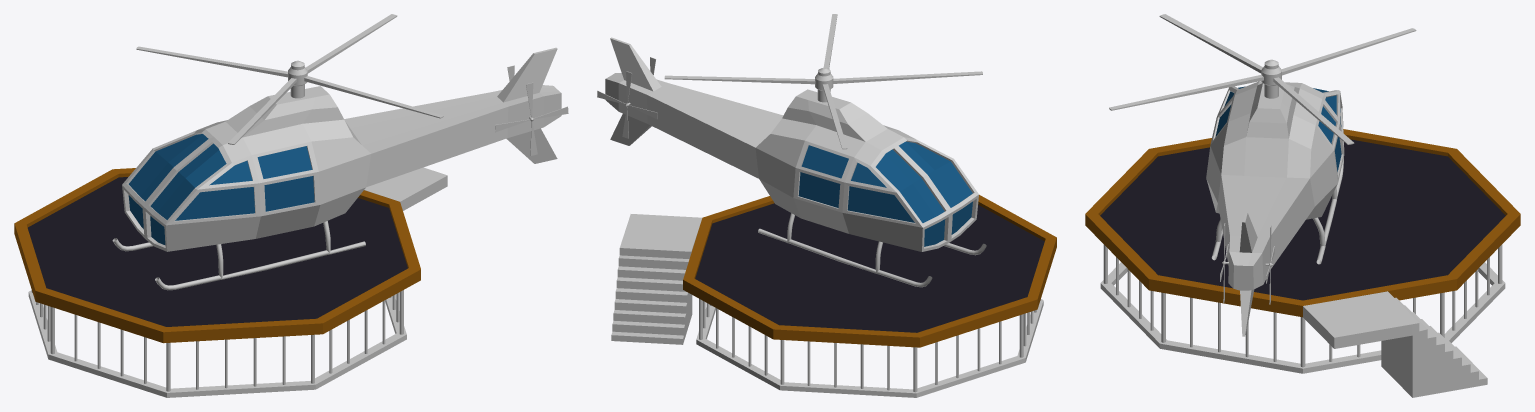
The model's file is copter_000230.obj.
3 views of the same model, side by side, from view 1: azimuth 30°, elevation 25°; view 2: azimuth 150°, elevation 25°; view 3: azimuth 270°, elevation 25° (orthographic). The views are drawn at different scales.
Parts seen in each view (by area): view 1: Cylinder.001_Cylinder.012, Helicopter.007_Cylinder.008, Helicopter.001_Cylinder.001, Cylinder.004, Cylinder.003_Cylinder.005, Cylinder.002, Helicopter.003_Cylinder.004; view 2: Cylinder.001_Cylinder.012, Helicopter.007_Cylinder.008, Helicopter.001_Cylinder.001, Cylinder.004, Cylinder.003_Cylinder.005, Cylinder.002, Helicopter.004_Cylinder.005; view 3: Cylinder.001_Cylinder.012, Helicopter.007_Cylinder.008, Helicopter.001_Cylinder.001, Cylinder.002, Cylinder.004, Cylinder.003_Cylinder.005.
Boxes of the visible parts, x1,y1,x2,y2 form: Cylinder.001_Cylinder.012: [14, 167, 447, 397]; Helicopter.007_Cylinder.008: [112, 47, 561, 290]; Helicopter.001_Cylinder.001: [136, 14, 443, 144]; Cylinder.004: [196, 300, 385, 389]; Cylinder.003_Cylinder.005: [36, 292, 399, 383]; Cylinder.002: [31, 290, 403, 391]; Helicopter.003_Cylinder.004: [495, 82, 568, 155]; Cylinder.001_Cylinder.012: [611, 194, 1056, 397]; Helicopter.007_Cylinder.008: [605, 37, 986, 287]; Helicopter.001_Cylinder.001: [664, 14, 982, 149]; Cylinder.004: [716, 308, 889, 390]; Cylinder.003_Cylinder.005: [703, 301, 1036, 384]; Cylinder.002: [699, 299, 1040, 392]; Helicopter.004_Cylinder.005: [597, 71, 657, 138]; Cylinder.001_Cylinder.012: [1085, 129, 1520, 397]; Helicopter.007_Cylinder.008: [1206, 81, 1344, 336]; Helicopter.001_Cylinder.001: [1109, 14, 1416, 144]; Cylinder.002: [1103, 244, 1502, 367]; Cylinder.004: [1116, 257, 1489, 330]; Cylinder.003_Cylinder.005: [1190, 297, 1415, 361].
Size of the model in its own units: 9.22 by 4.47 by 6.77.
